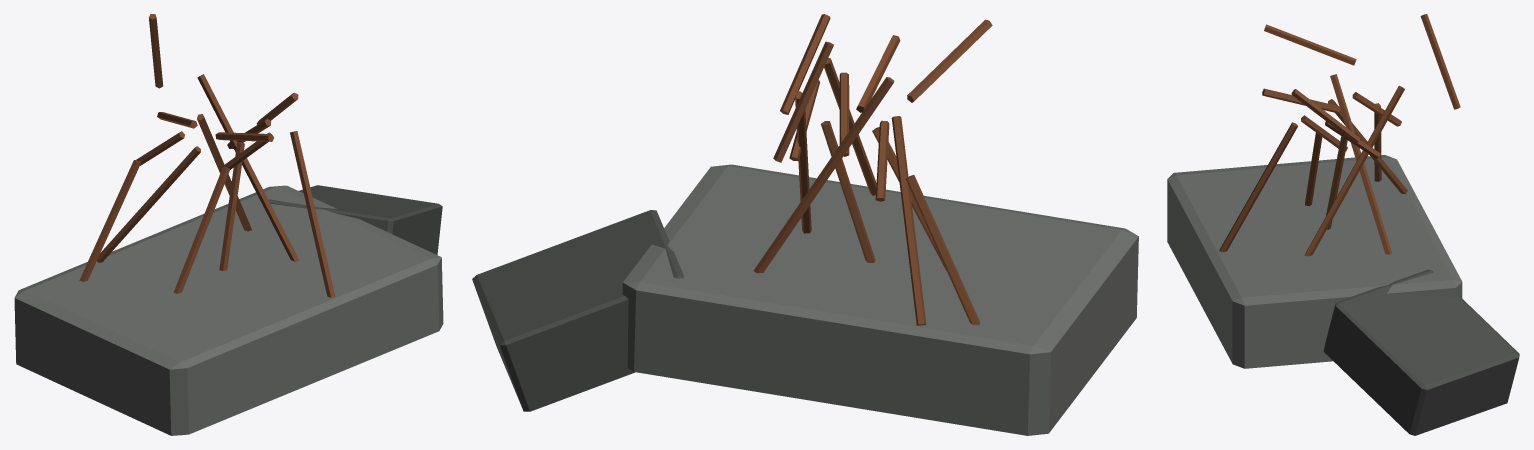
The model's file is Rebar_Chunk_B.fbx.
3 views of the same model, side by side, from view 1: azimuth 30°, elevation 25°; view 2: azimuth 150°, elevation 25°; view 3: azimuth 270°, elevation 25° (orthographic). The views are drawn at different scales.
Visible parts, largest first — view 1: Rebar_Chunk_B; view 2: Rebar_Chunk_B; view 3: Rebar_Chunk_B.
Boxes of the visible parts, bbox=[...] form: Rebar_Chunk_B: bbox=[14, 14, 443, 435]; Rebar_Chunk_B: bbox=[472, 14, 1138, 435]; Rebar_Chunk_B: bbox=[1167, 14, 1519, 435].
Size of the model in its own units: 2.26 by 1.53 by 1.65.
